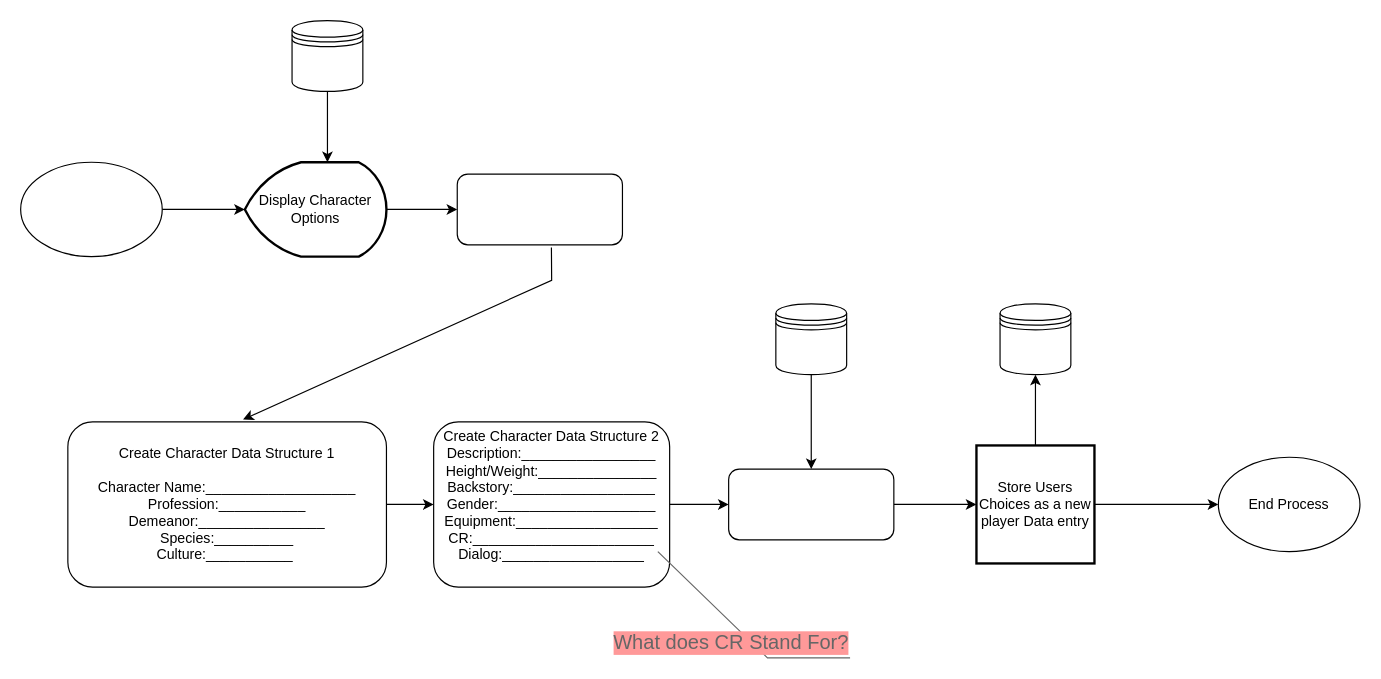
The diagram is 1381 pixels wide and 679 high, and some of its shapes have lost their labels. The shapes that lost their labels are listed below. From the top down, each one's box as (x1, y1, x2, y2) in pixels, then its label:
(19, 161, 162, 257): Start Process
(456, 173, 622, 245): Create Faction Data Structure
(727, 468, 894, 540): Import Character Image from file
